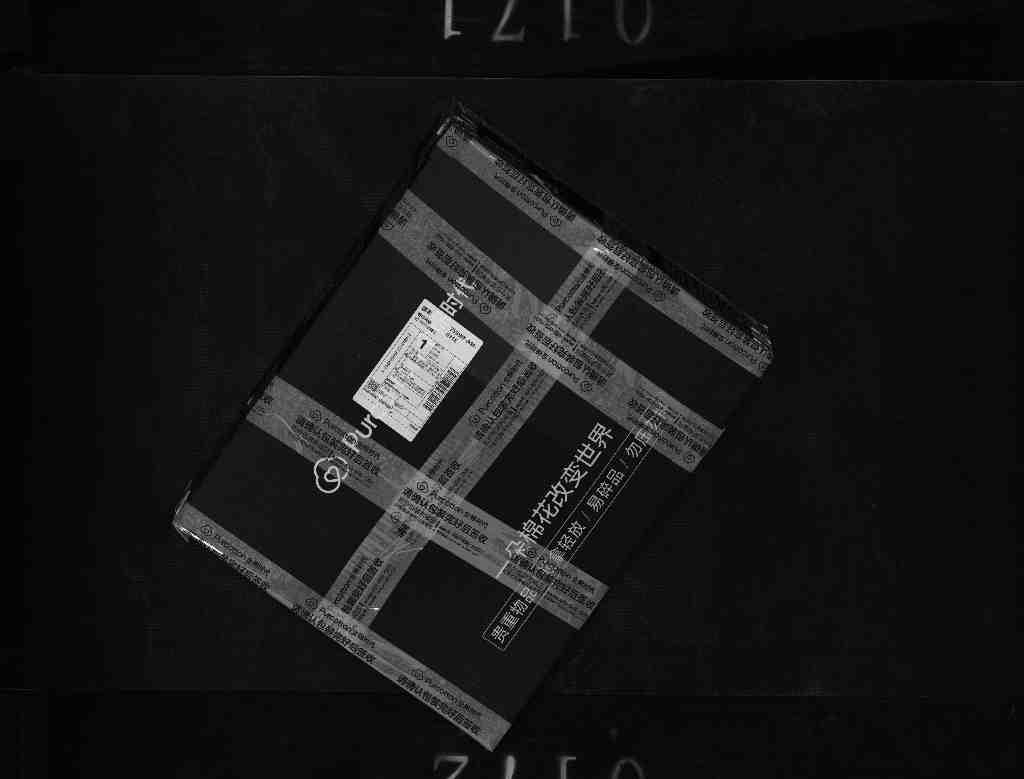box: (168, 108, 794, 758)
